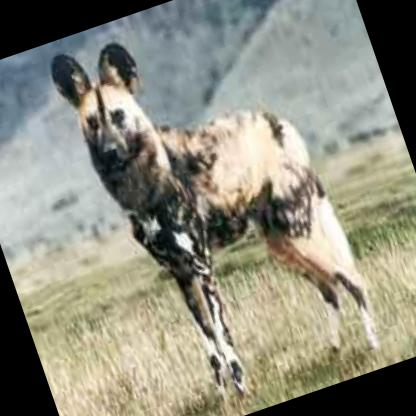African_hunting_dog: (44, 0, 385, 416)
